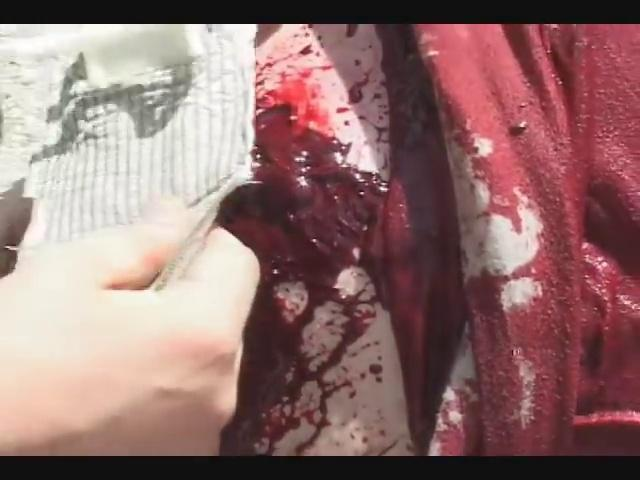Fire: (422, 26, 640, 454), (216, 30, 390, 456), (378, 25, 468, 456), (218, 104, 390, 302), (429, 326, 480, 457), (349, 73, 370, 102)
